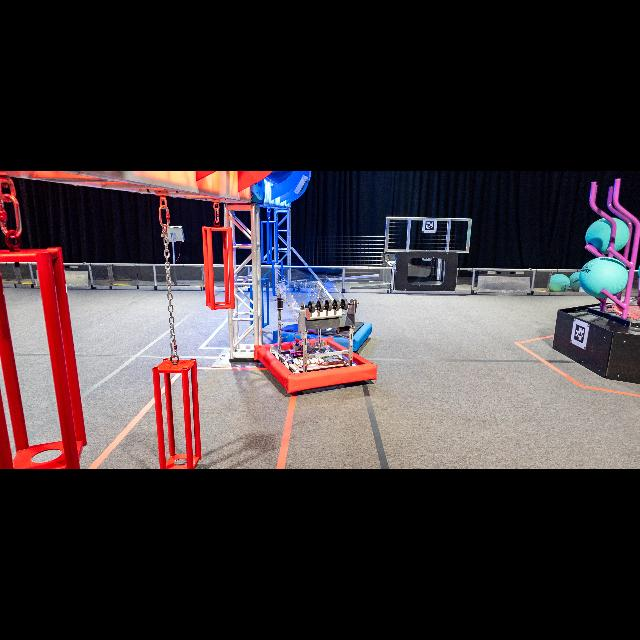ALGAE: (580, 258, 628, 298), (585, 218, 629, 254), (549, 274, 569, 292), (570, 272, 580, 292)
